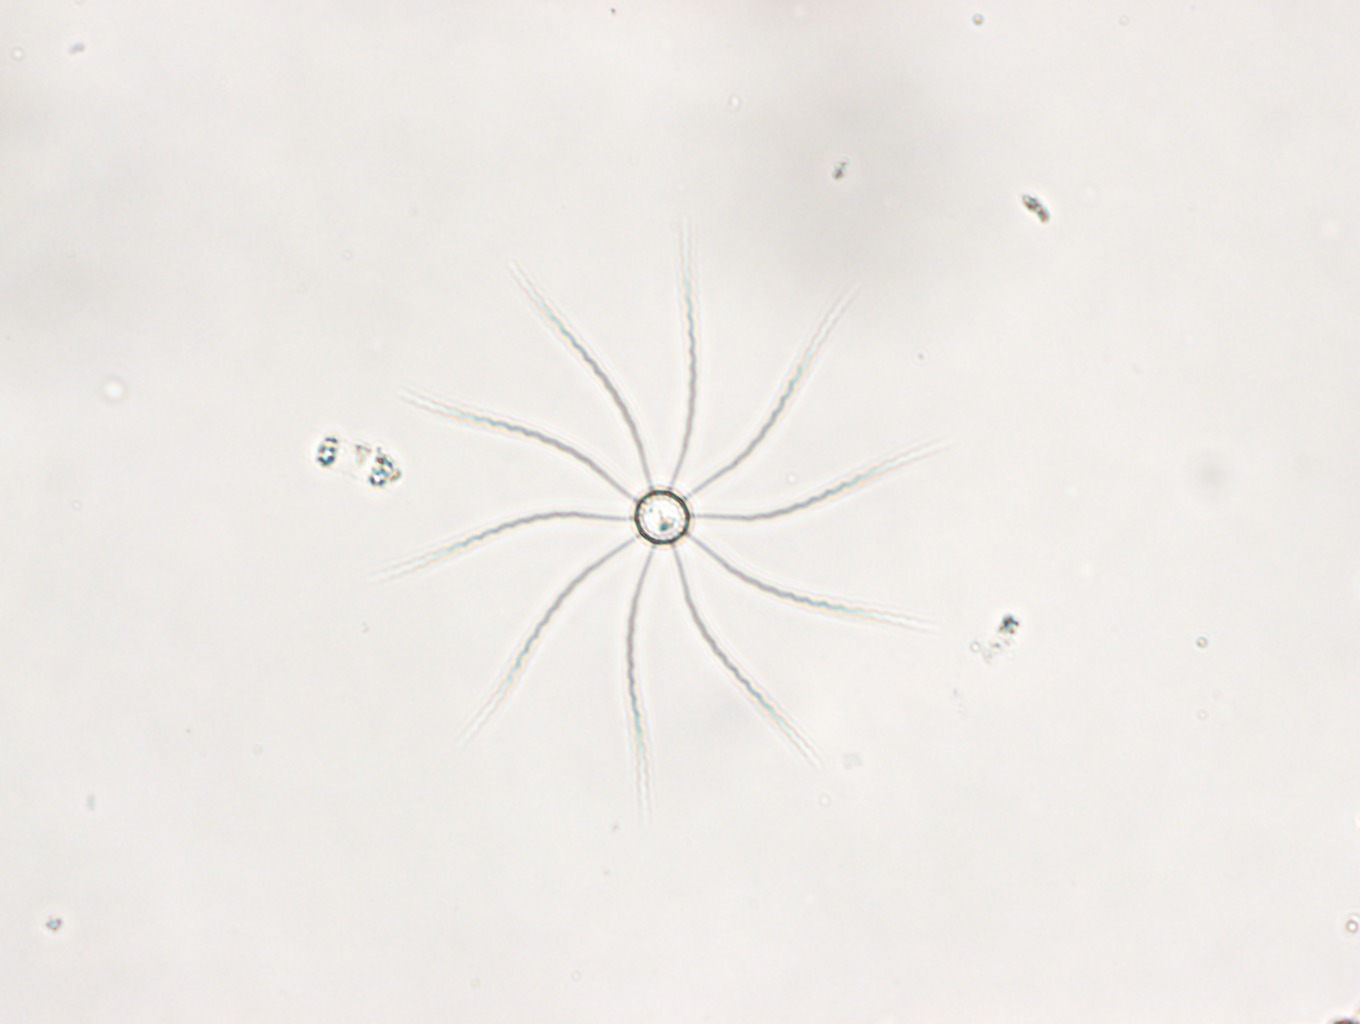bacteriastrum: (374, 216, 953, 788)
